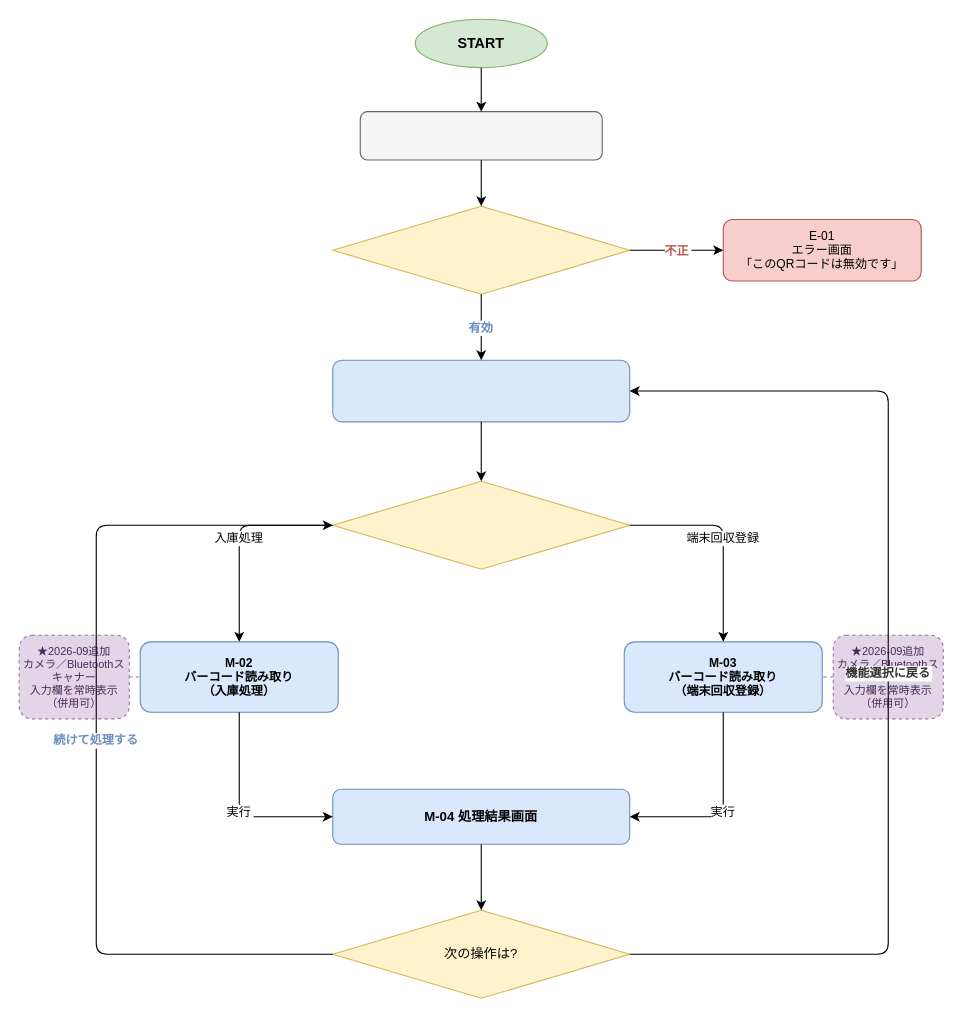
Image size: 963x1018. Some labels were removed from this diagram. Here are the shapes that lost their labels. From the top down, the box of each, then its label:
(359, 111, 602, 160): QRコードを読み取る
(332, 205, 630, 294): branch_cd が有効?
(332, 359, 630, 422): M-01 機能選択画面 支店名 ＋ 機能選択ボタン
(332, 480, 630, 569): どちらを選択?
